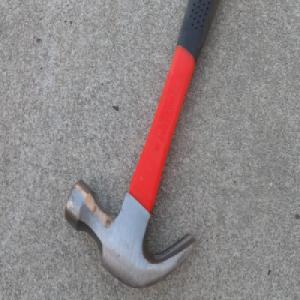Hammer: (62, 0, 221, 292)
